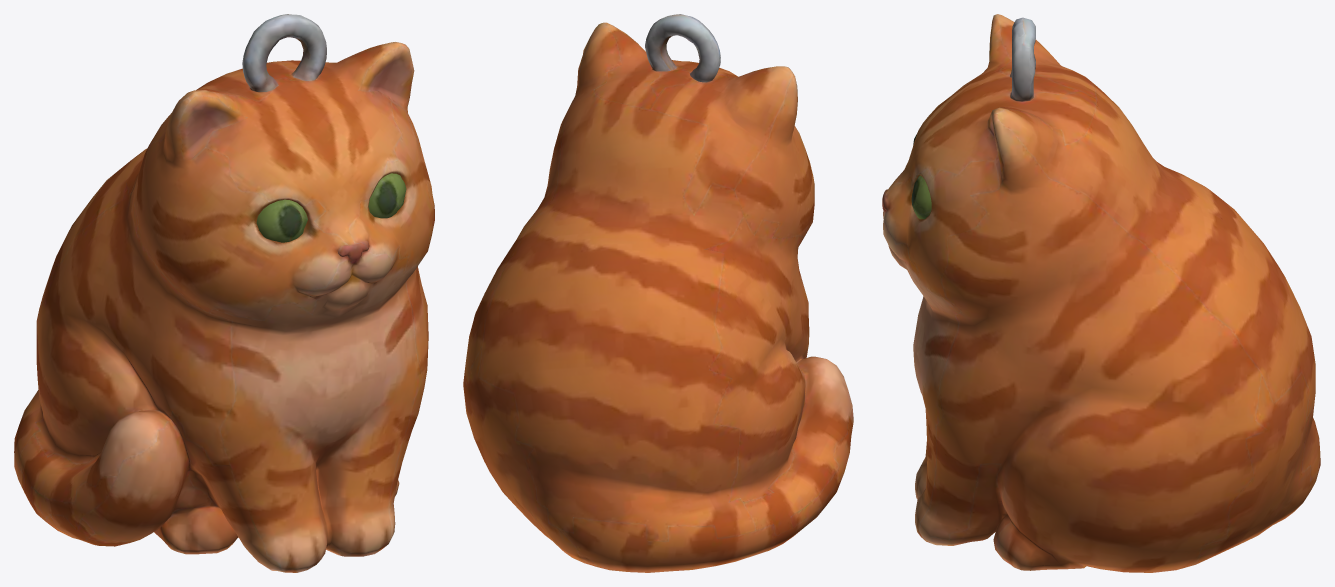
File: sus_kedi.glb
The picture shows the model from 3 angles, left to right: view 1: azimuth 30°, elevation 25°; view 2: azimuth 150°, elevation 25°; view 3: azimuth 270°, elevation 25°; orthographic projection. The views are drawn at different scales.
Parts seen in each view (by area): view 1: sus; view 2: sus; view 3: sus.
Part boxes in pixels (x1,y1,x2,y2): sus: (14,14,434,572); sus: (463,14,853,572); sus: (882,14,1320,572).
Bounding box in the file's own units: 0.0255 × 0.034 × 0.0271.
Materials: 1 (1 with a texture image).
